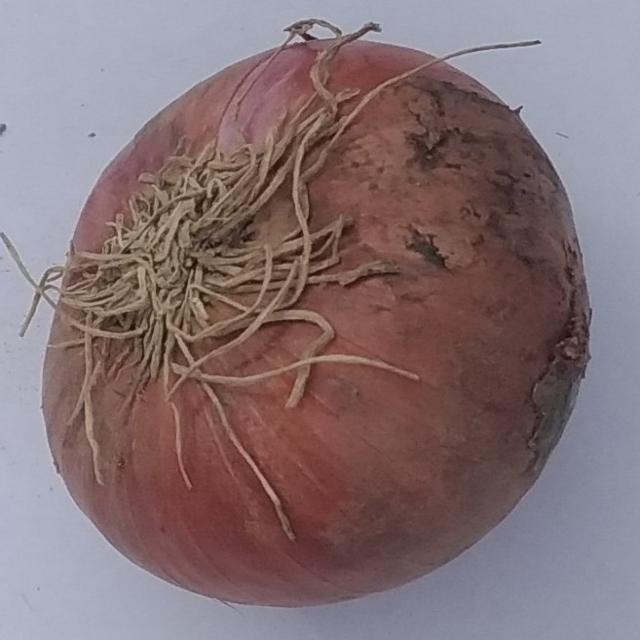onion: (31, 32, 596, 612)
